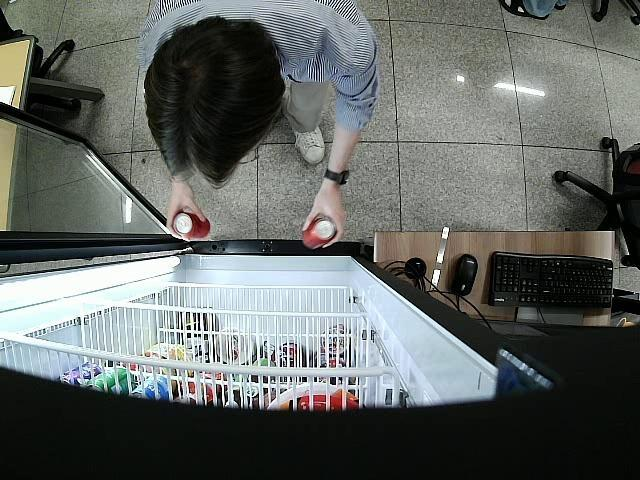11_cocaColaZero: (302, 216, 334, 250), (173, 212, 213, 238)
